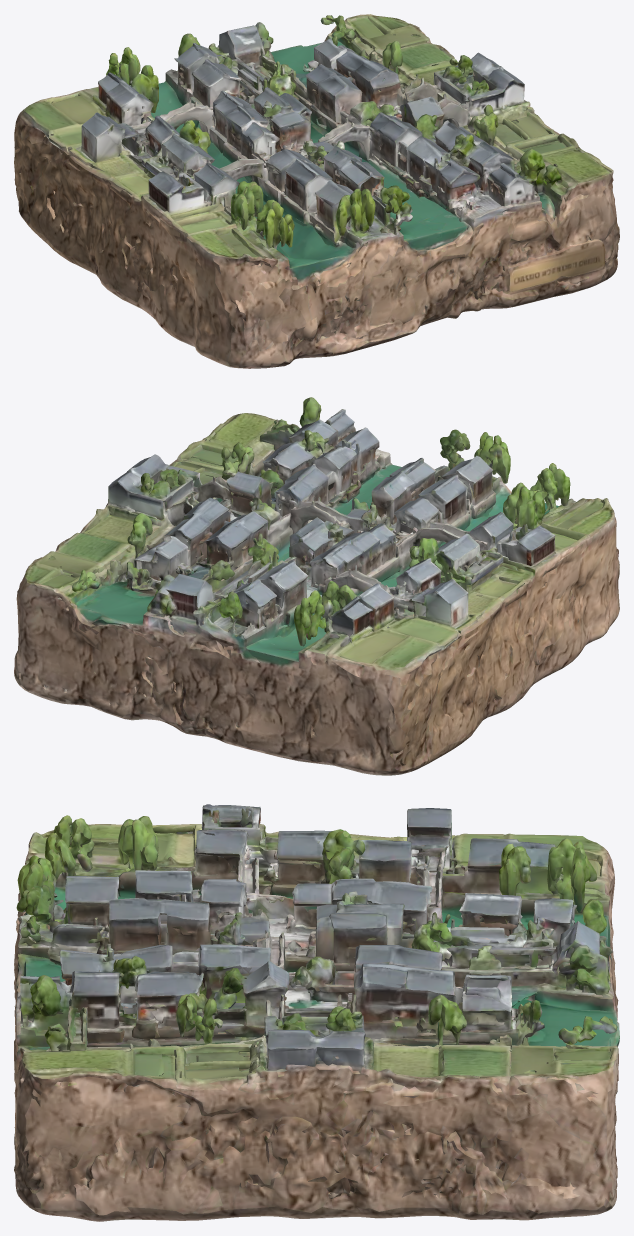
File: xinxinqiao.min.glb
3 renders of one model, top to bottom at view 1: azimuth 30°, elevation 25°; view 2: azimuth 150°, elevation 25°; view 3: azimuth 270°, elevation 25°, orthographic. The views are drawn at different scales.
Visible parts, largest first — view 1: geometry_0; view 2: geometry_0; view 3: geometry_0.
Boxes of the visible parts, x1,y1,x2,y2 form: geometry_0: (14, 14, 619, 368); geometry_0: (14, 397, 619, 775); geometry_0: (14, 804, 619, 1221).
Size of the model in its own units: 0.32 by 0.1237 by 0.3199.
Materials: 1 (1 with a texture image).
